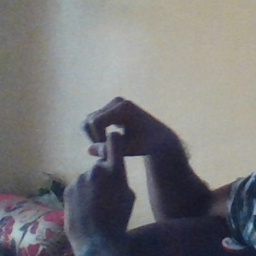Q: (56, 94, 166, 228)
